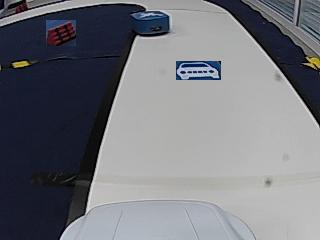prop: (131, 11, 169, 36)
